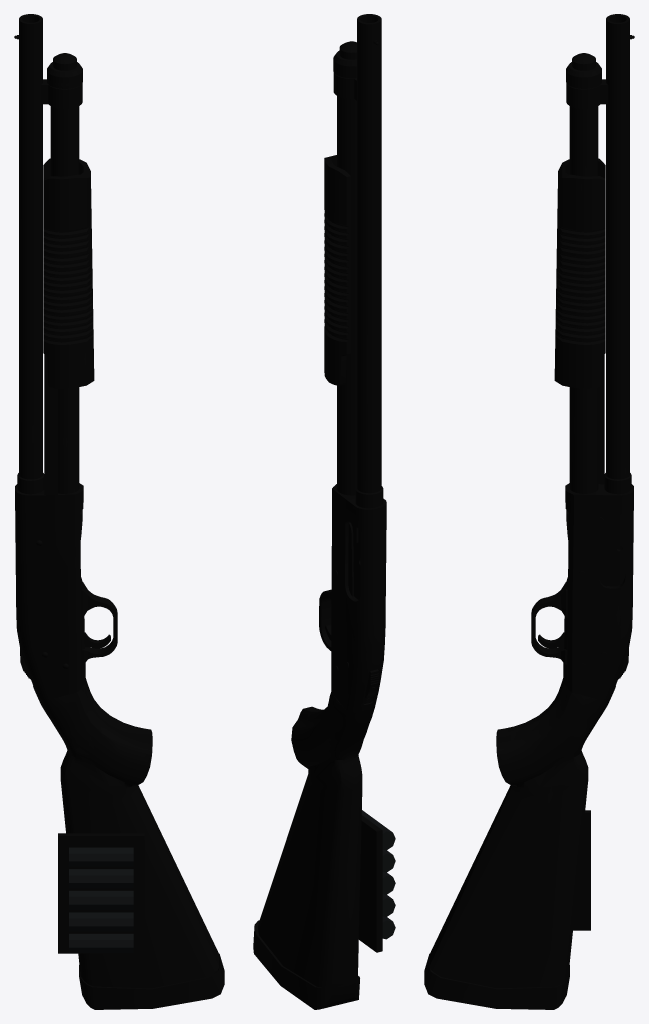
File: M590__ShellHolder_Butt.fbx
3 renders of one model, left to right at view 1: azimuth 90°, elevation 25°; view 2: azimuth 210°, elevation 25°; view 3: azimuth 270°, elevation 25°, orthographic. The views are drawn at different scales.
Visible parts, largest first — view 1: asset_M590.001; view 2: asset_M590.001; view 3: asset_M590.001.
Part boxes in pixels (x1,y1,x2,y2): asset_M590.001: [14, 14, 224, 1009]; asset_M590.001: [253, 14, 395, 1009]; asset_M590.001: [424, 14, 634, 1009].
Bounding box in the file's own units: 0.0447 × 0.6 × 0.1167.
